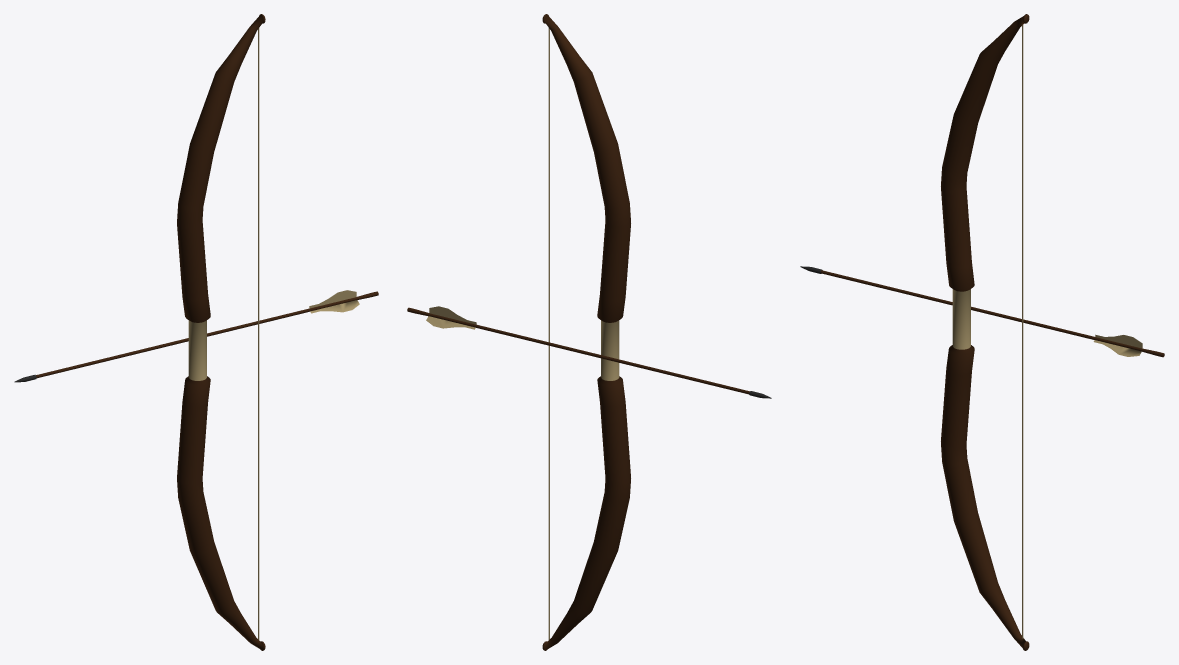
Rendered from bow.fbx.
3 views of the same model, side by side, from view 1: azimuth 30°, elevation 25°; view 2: azimuth 150°, elevation 25°; view 3: azimuth 330°, elevation 25° (orthographic).
Visible parts, largest first — view 1: Cylinder, Cylinder.001; view 2: Cylinder, Cylinder.001; view 3: Cylinder, Cylinder.001.
Boxes of the visible parts, x1,y1,x2,y2 form: Cylinder: (177, 14, 265, 650); Cylinder.001: (14, 290, 378, 382); Cylinder: (542, 14, 630, 650); Cylinder.001: (407, 306, 771, 398); Cylinder: (941, 14, 1029, 650); Cylinder.001: (800, 266, 1164, 357).
Bounding box in the file's own units: 1877 × 3139 × 203.
